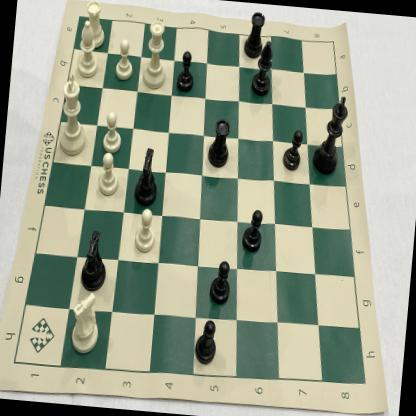bishop: (74, 16, 104, 80), (249, 36, 278, 102)
king: (52, 70, 96, 160), (310, 90, 354, 180)
knight: (64, 288, 106, 358), (76, 225, 114, 298), (131, 144, 164, 212)
pawn: (192, 316, 222, 368), (130, 206, 160, 256), (239, 205, 267, 257), (207, 257, 235, 308), (95, 150, 122, 200), (112, 35, 138, 84), (100, 108, 125, 156), (175, 48, 200, 96), (282, 125, 306, 175)
queen: (139, 13, 175, 93)
rook: (204, 114, 235, 174), (241, 5, 269, 64), (81, 0, 112, 53)
